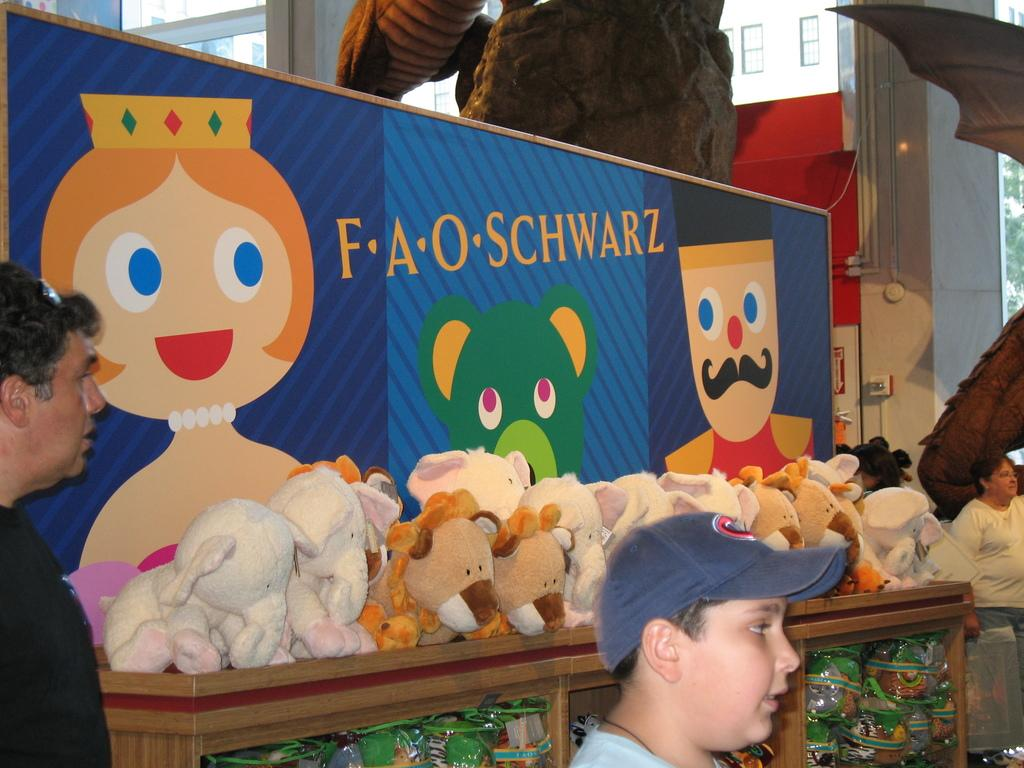Hat: (596, 514, 850, 675)
